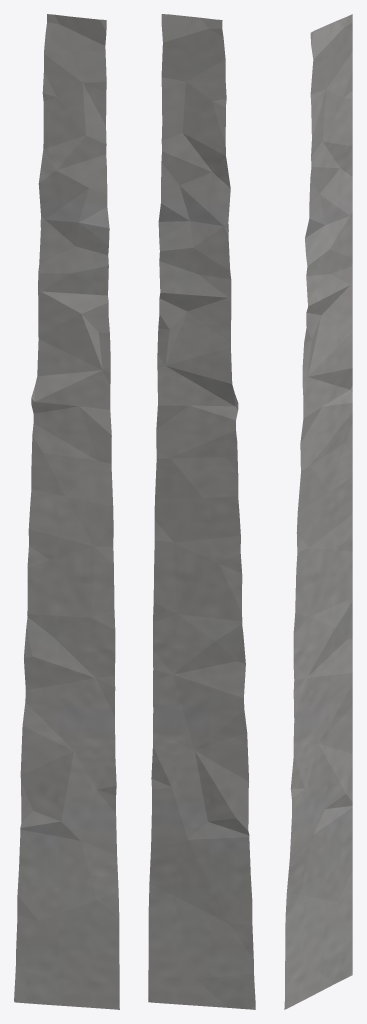
3 views of the same model, side by side, from view 1: azimuth 30°, elevation 25°; view 2: azimuth 210°, elevation 25°; view 3: azimuth 270°, elevation 25° (orthographic). The views are drawn at different scales.
Size of the model in its own units: 0.0639 by 0.8373 by 0.053.
1 material, 1 textured.
